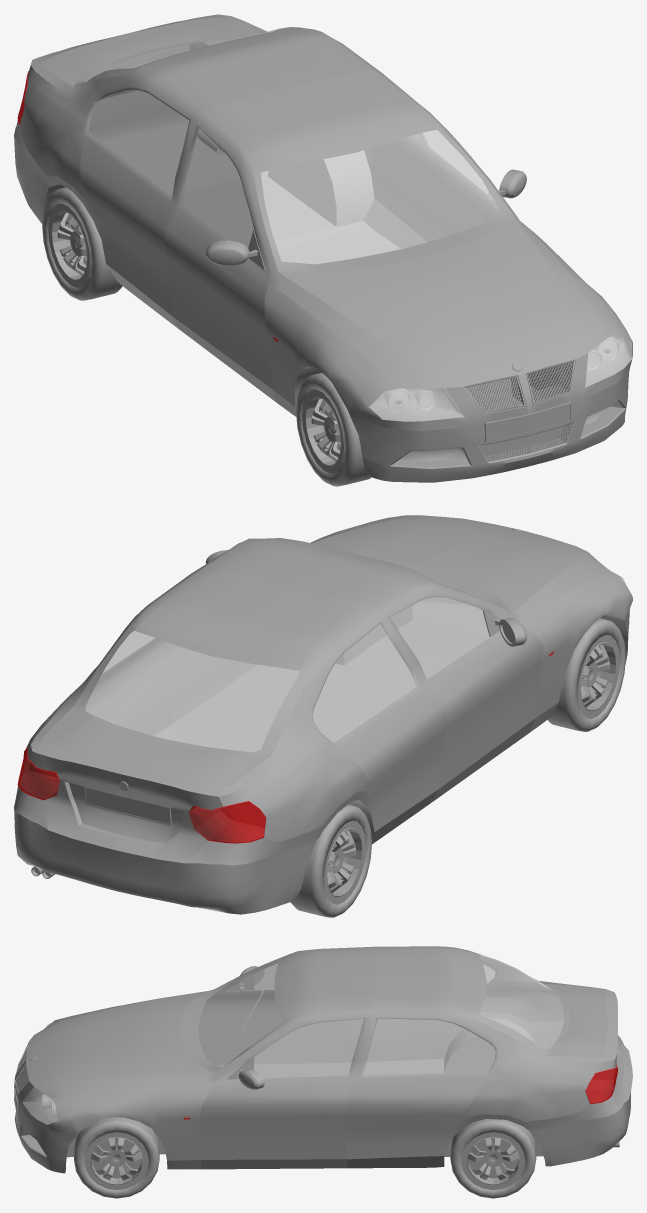
The model's file is BMW.fbx.
The picture shows the model from 3 angles, top to bottom: view 1: azimuth 30°, elevation 25°; view 2: azimuth 150°, elevation 25°; view 3: azimuth 270°, elevation 25°; orthographic projection. The views are drawn at different scales.
Parts seen in each view (by area): view 1: Front_grill3, windows, Backwheels, R_front_wheel_02, FrontLights2, sidemirrors, license_plate; view 2: Front_grill3, windows, Backwheels, R_front_wheel_02, Tail_lights, license_plate_back, sidemirrors; view 3: Front_grill3, windows, L_front_wheel_01, Backwheels, sidemirrors, FrontLights2, Tail_lights.
Boxes of the visible parts, x1,y1,x2,y2 form: Front_grill3: (14, 14, 632, 482); windows: (85, 27, 498, 264); Backwheels: (42, 187, 122, 300); R_front_wheel_02: (296, 372, 371, 486); FrontLights2: (369, 334, 632, 421); sidemirrors: (205, 169, 526, 271); license_plate: (484, 402, 570, 441); Front_grill3: (14, 515, 632, 914); windows: (85, 585, 489, 752); Backwheels: (290, 804, 371, 917); R_front_wheel_02: (547, 618, 625, 731); Tail_lights: (17, 747, 265, 843); license_plate_back: (84, 787, 171, 825); sidemirrors: (205, 550, 526, 646); Front_grill3: (14, 946, 632, 1173); windows: (198, 954, 564, 1078); L_front_wheel_01: (74, 1117, 159, 1198); Backwheels: (450, 1119, 536, 1198); sidemirrors: (226, 966, 264, 1089); FrontLights2: (22, 1020, 57, 1124); Tail_lights: (585, 1064, 617, 1104).
Bounding box in the file's own units: 200 × 142 × 454.
